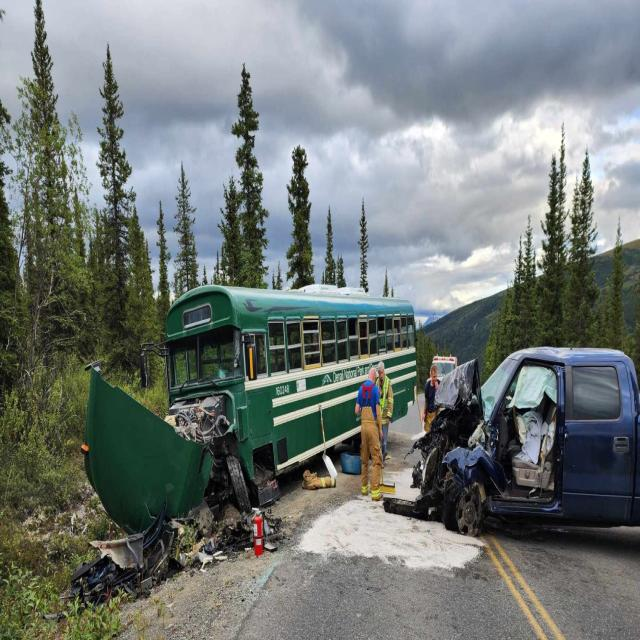Accident: (78, 264, 417, 555), (380, 342, 640, 536)
